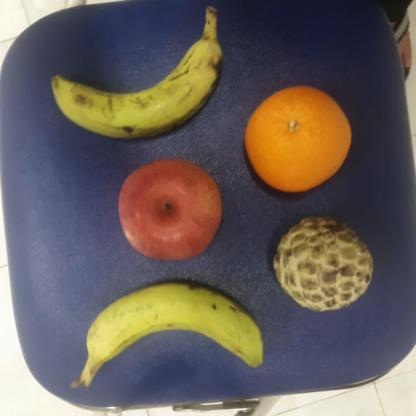annona: (270, 212, 378, 313)
apple: (117, 157, 223, 263)
banana: (51, 38, 230, 145), (82, 280, 266, 368)
orange: (242, 85, 353, 195)
